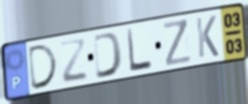D: (27, 41, 61, 92), (92, 30, 125, 81)
K: (194, 14, 220, 60)
L: (125, 27, 154, 75)
Z: (161, 17, 194, 68), (57, 37, 89, 85)
